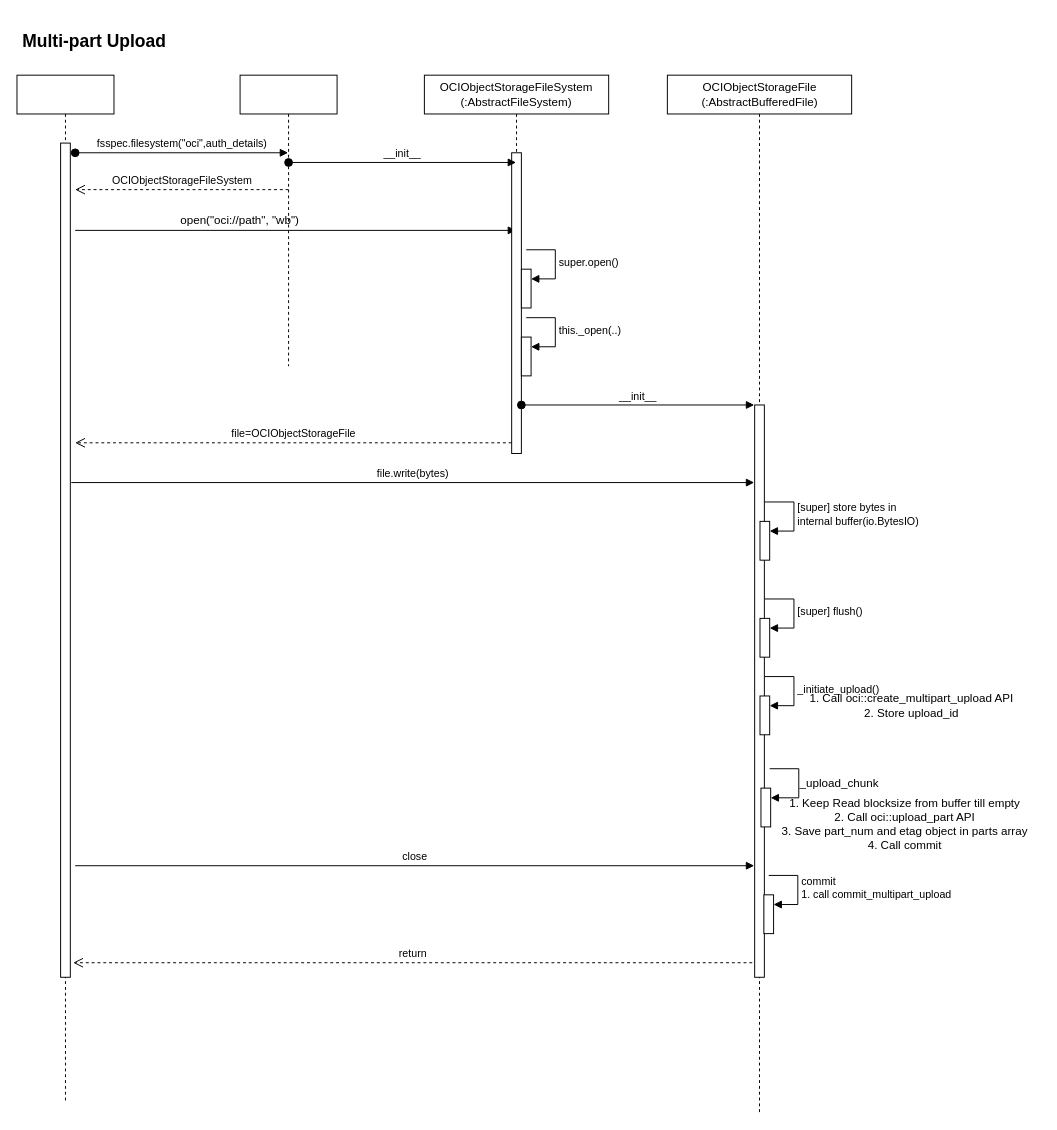
The diagram is 1057 pixels wide and 1130 high, and some of its shapes have lost their labels. Here are the shapes that lost their labels. From the top down, the box of each, then its label:
(239, 74, 337, 366): :fsspec
(16, 74, 114, 1103): Client
